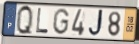4: (71, 8, 86, 37)
8: (107, 11, 123, 38)
G: (51, 8, 70, 36)
J: (87, 8, 106, 38)
L: (35, 7, 49, 35)
Q: (16, 4, 33, 37)
